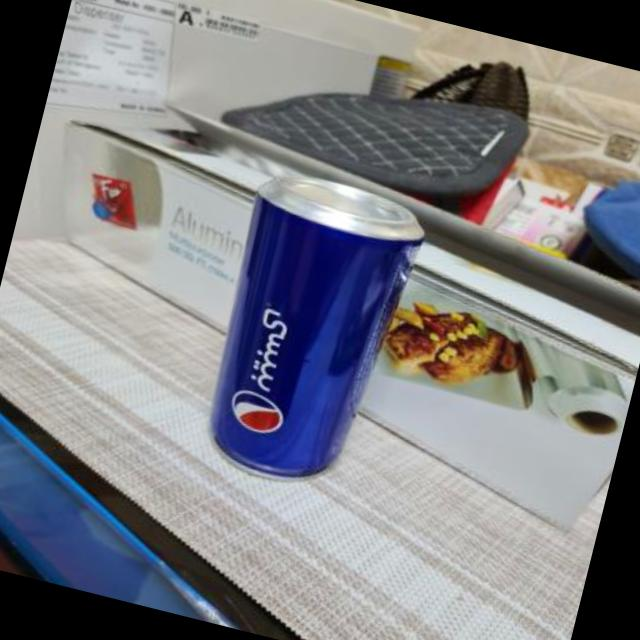metal: (210, 174, 422, 475)
